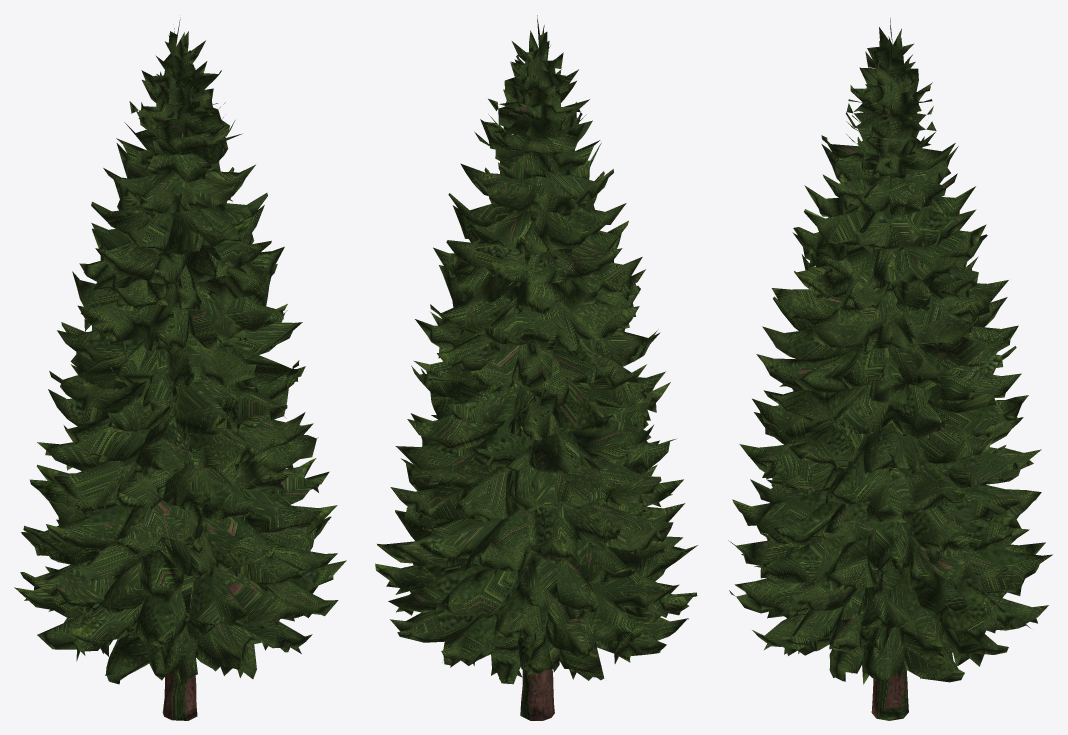
Rendered from pine.glb.
3 views of the same model, side by side, from view 1: azimuth 30°, elevation 25°; view 2: azimuth 150°, elevation 25°; view 3: azimuth 270°, elevation 25° (orthographic).
Bounding box in the file's own units: 2.98 × 6.88 × 2.91.
Materials: 1 (1 with a texture image).
